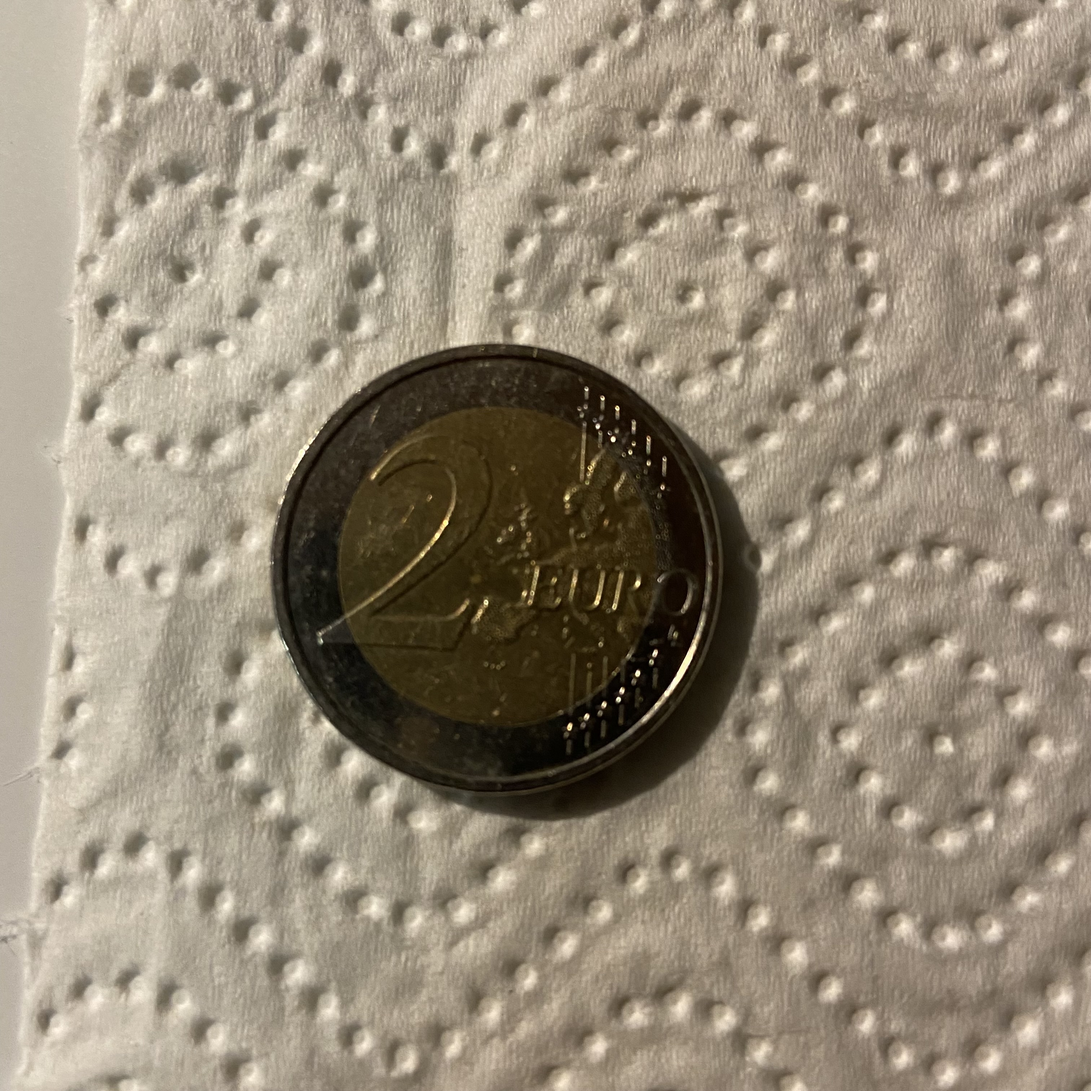2 euro: (266, 341, 721, 797)
